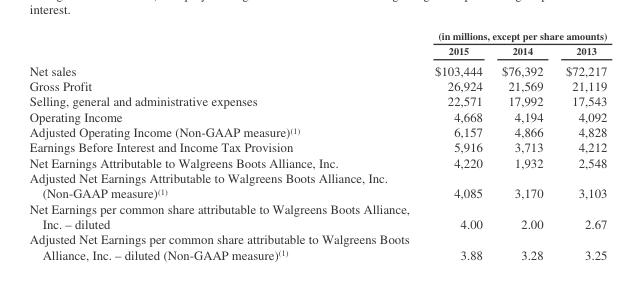table: (28, 29, 606, 261)
table column: (28, 29, 421, 261), (421, 29, 491, 261), (491, 29, 553, 261), (553, 29, 606, 261)
table column header: (28, 29, 606, 59)
table row: (28, 169, 606, 200), (28, 200, 606, 231), (28, 231, 606, 261), (28, 59, 606, 78), (28, 42, 606, 59), (28, 123, 606, 139), (28, 78, 606, 93), (28, 93, 606, 108), (28, 108, 606, 123), (28, 139, 606, 154), (28, 154, 606, 169), (28, 29, 606, 42)
table spanning cell: (421, 29, 606, 42)
